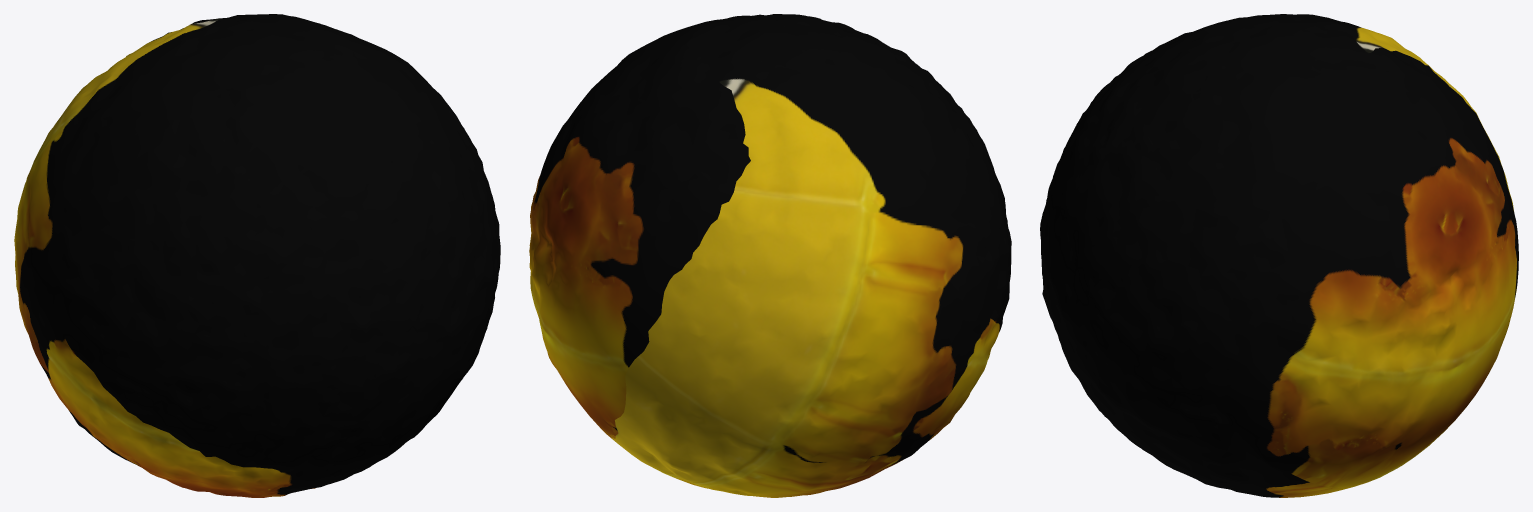
The picture shows the model from 3 angles, left to right: view 1: azimuth 30°, elevation 25°; view 2: azimuth 150°, elevation 25°; view 3: azimuth 270°, elevation 25°; orthographic projection.
Bounding box in the file's own units: 0.035 × 0.035 × 0.0345.
